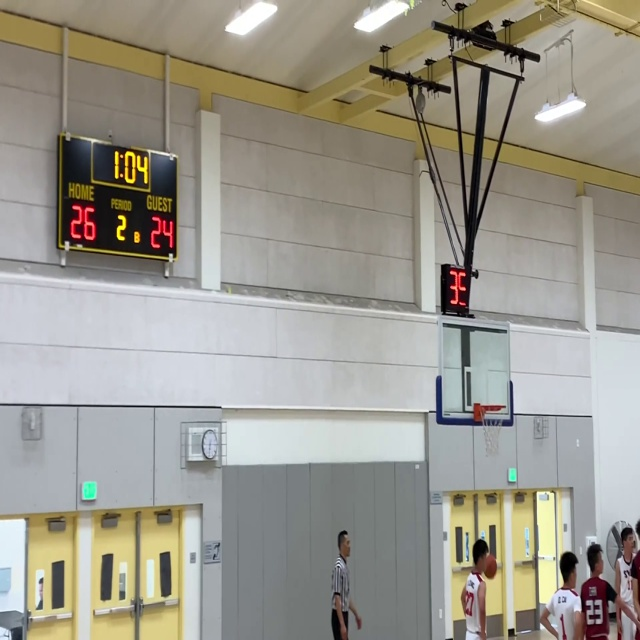Basketball: (483, 554, 497, 579)
